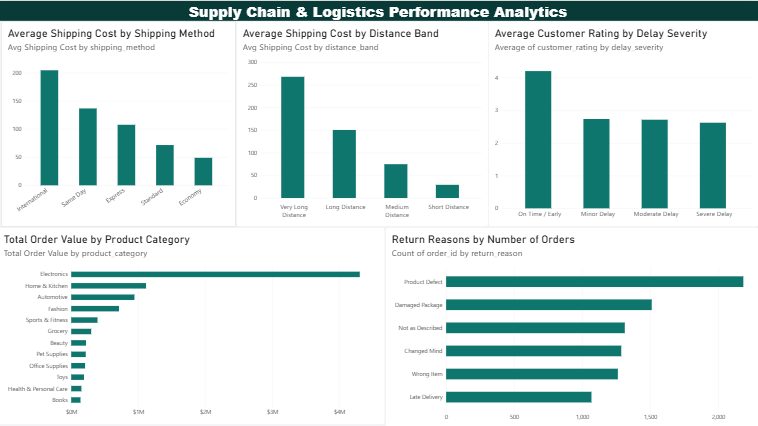

The page's visual inventory and layout, read from the dashboard file:
{"tool":"powerbi","page":{"name":"Costs, Customers & Returns","canvas":[1920,1080],"ordinal":2},"visuals":[{"type":"clusteredColumnChart","title":"Average Shipping Cost by Shipping Method","fields":{"Category":["Supply_Chain_Feature_Engineered.shipping_method"],"Y":["Supply_Chain_Feature_Engineered.Avg Shipping Cost"]},"box":[10.1,50.4,592.1,519.1],"z":0},{"type":"clusteredColumnChart","title":"Average Shipping Cost by Distance Band","fields":{"Category":["Supply_Chain_Feature_Engineered.distance_band"],"Y":["Supply_Chain_Feature_Engineered.Avg Shipping Cost"]},"box":[602.2,50.4,637.5,519.1],"z":1000},{"type":"clusteredBarChart","title":"Total Order Value by Product Category","fields":{"Category":["Supply_Chain_Feature_Engineered.product_category"],"Y":["Supply_Chain_Feature_Engineered.Total Order Value"]},"box":[0,569.4,977.6,498.9],"z":2000},{"type":"clusteredColumnChart","title":"Average Customer Rating by Delay Severity","fields":{"Category":["Supply_Chain_Feature_Engineered.delay_severity"],"Y":["Avg(Supply_Chain_Feature_Engineered.customer_rating)"]},"box":[1237.2,50.4,682.8,519.1],"z":3000},{"type":"clusteredBarChart","title":"Return Reasons by Number of Orders","fields":{"Category":["Supply_Chain_Feature_Engineered.return_reason"],"Y":["CountNonNull(Supply_Chain_Feature_Engineered.order_id)"]},"box":[977.6,569.4,942.4,511.5],"z":4000},{"type":"shape","box":[0,0,1920,50.4],"z":4001}]}

Visuals, with their boxes in screenshot pixels (x1, y1, x2, y2), scaled from the page's 1920x1080 canvas onto the 758x426 screenshot:
"Average Shipping Cost by Shipping Method" clusteredColumnChart: left=4, top=20, right=238, bottom=225
"Average Shipping Cost by Distance Band" clusteredColumnChart: left=238, top=20, right=489, bottom=225
"Total Order Value by Product Category" clusteredBarChart: left=0, top=225, right=386, bottom=421
"Average Customer Rating by Delay Severity" clusteredColumnChart: left=488, top=20, right=757, bottom=225
"Return Reasons by Number of Orders" clusteredBarChart: left=386, top=225, right=757, bottom=425
shape: left=0, top=0, right=757, bottom=20
